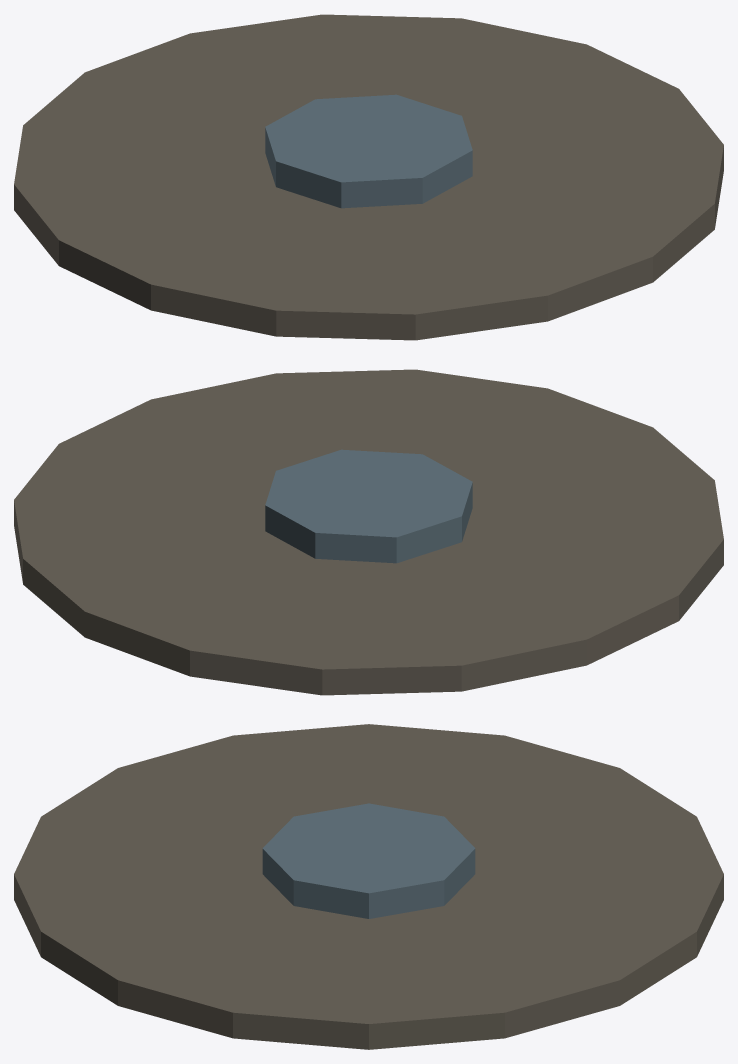
File: school-tank-cover.glb
3 renders of one model, top to bottom at view 1: azimuth 30°, elevation 25°; view 2: azimuth 150°, elevation 25°; view 3: azimuth 270°, elevation 25°, orthographic.
Parts seen in each view (by area): view 1: school-tank-cover; view 2: school-tank-cover; view 3: school-tank-cover.
Part boxes in pixels (x1,y1,x2,y2): school-tank-cover: [14, 14, 723, 340]; school-tank-cover: [14, 369, 723, 695]; school-tank-cover: [14, 724, 723, 1049].
Size of the model in its own units: 2 by 0.1599 by 2.
